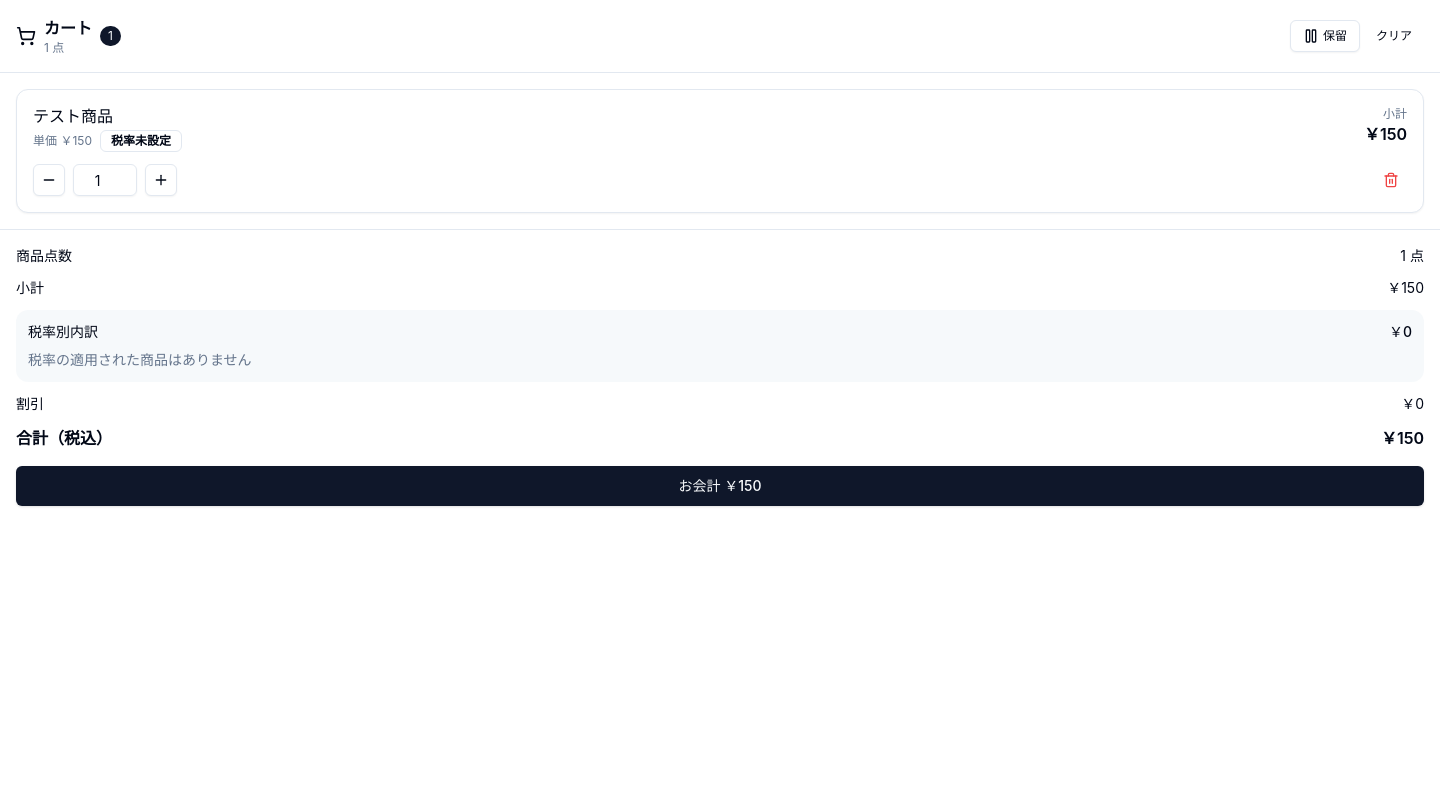
CartPanel › 削除ボタンでカートから商品を削除できる
What coordinates should you click on to do the following:
click the button named "テスト商品 を削除"
I would click on:
 (1391, 180)
Its box is [1375,164,1407,196].
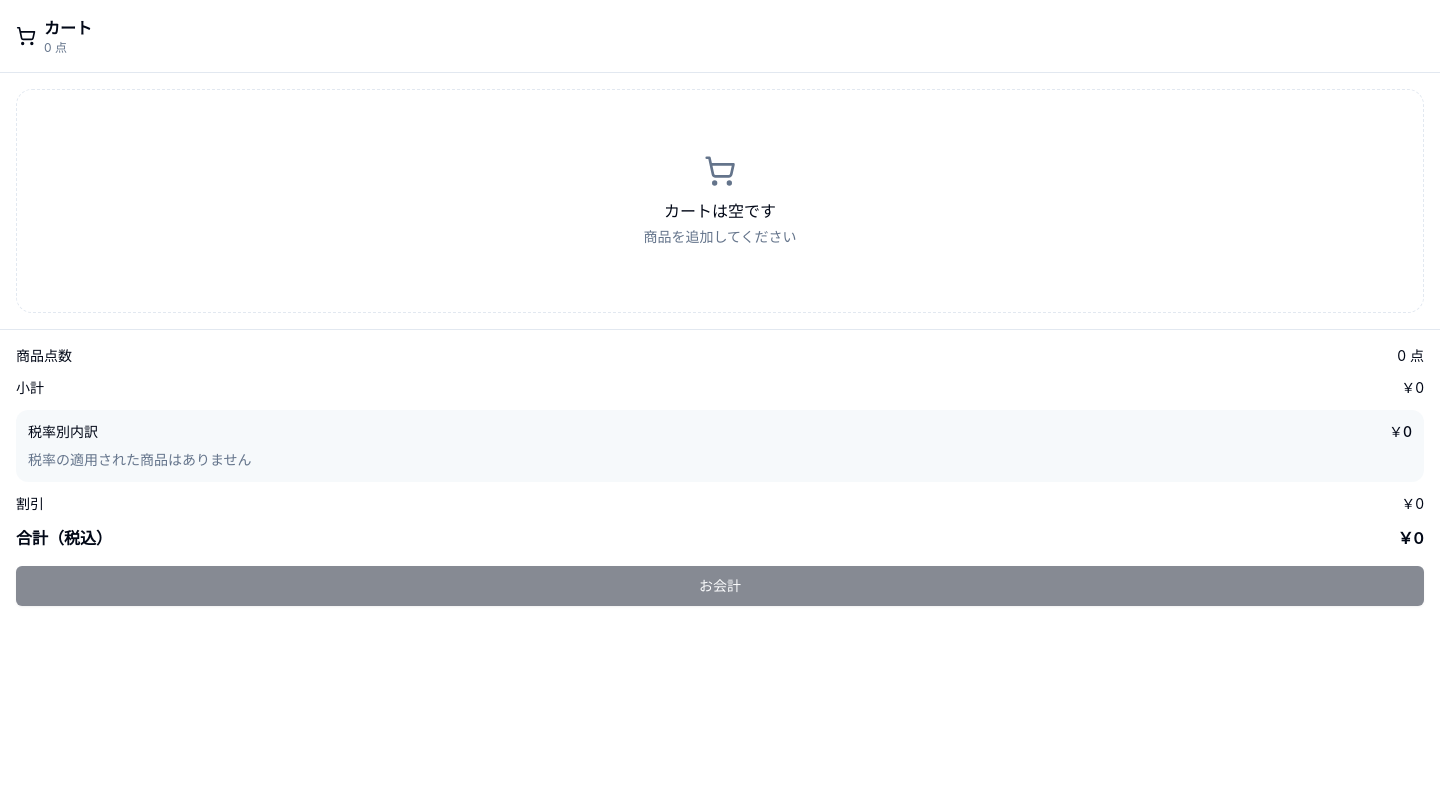
Now the text "カートは空です" is shown, box [664,201,776,221]
